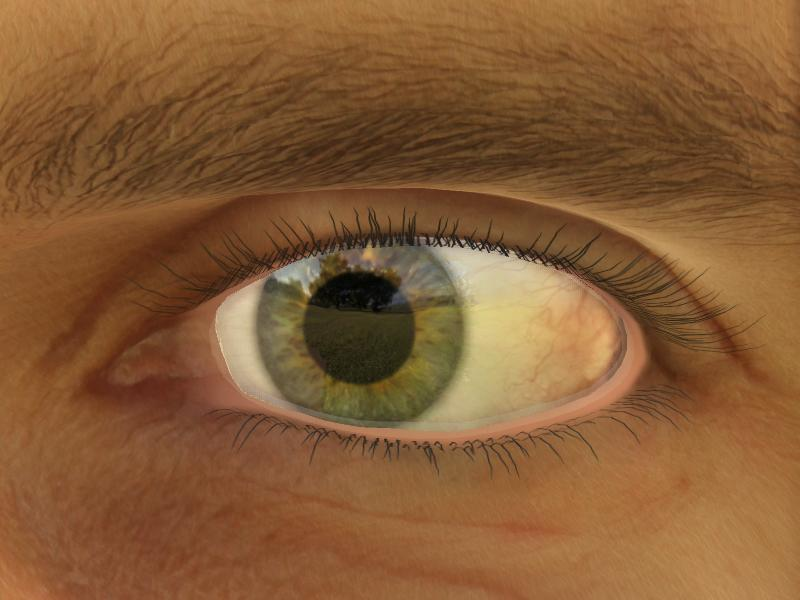eye: (258, 237, 464, 427)
